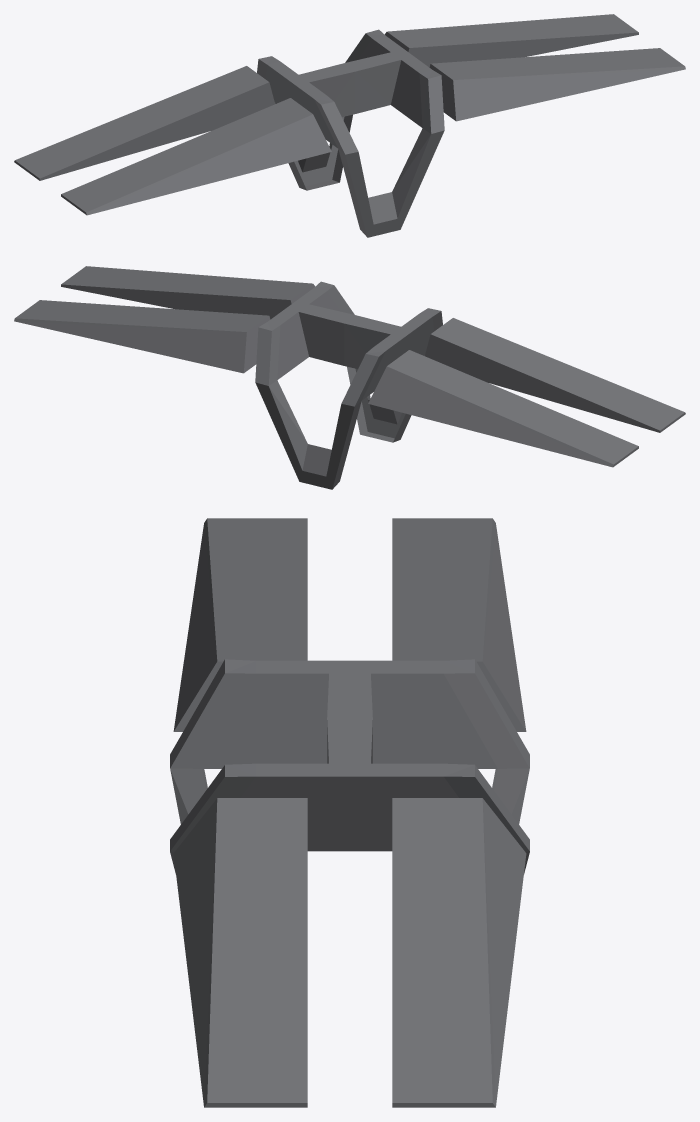
Rendered from PegasusChevronStatic.obj.
3 views of the same model, one above another, from view 1: azimuth 30°, elevation 25°; view 2: azimuth 150°, elevation 25°; view 3: azimuth 270°, elevation 25° (orthographic). The views are drawn at different scales.
Parts seen in each view (by area): view 1: StaticChevron; view 2: StaticChevron; view 3: StaticChevron.
Boxes of the visible parts, x1,y1,x2,y2 form: StaticChevron: [14, 14, 685, 237]; StaticChevron: [14, 266, 685, 489]; StaticChevron: [170, 518, 529, 1107].
Bounding box in the file's own units: 1.66 × 0.3752 × 0.432.
1 material, 1 textured.
